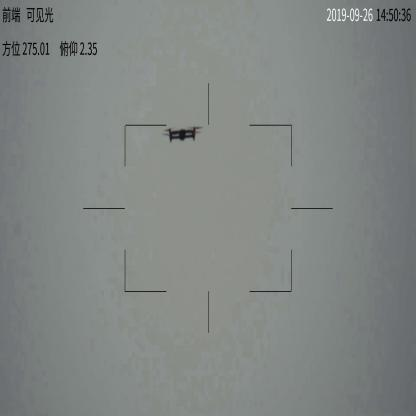uav: (163, 126, 204, 144)
